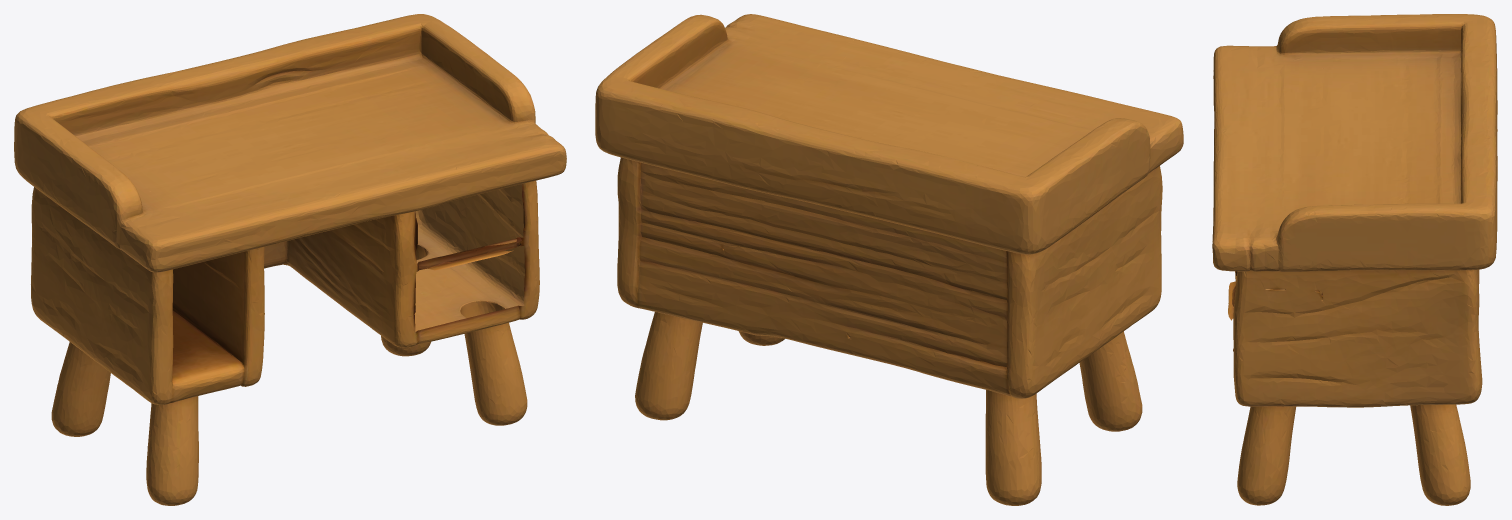
Rendered from body.glb.
The picture shows the model from 3 angles, left to right: view 1: azimuth 30°, elevation 25°; view 2: azimuth 150°, elevation 25°; view 3: azimuth 270°, elevation 25°; orthographic projection. The views are drawn at different scales.
Visible parts, largest first — view 1: source_surface_0; view 2: source_surface_0; view 3: source_surface_0.
Boxes of the visible parts, x1,y1,x2,y2 form: source_surface_0: [14, 14, 566, 505]; source_surface_0: [595, 14, 1183, 505]; source_surface_0: [1212, 14, 1497, 505].
Size of the model in its own units: 0.6 by 0.4315 by 0.3593.
1 material, 1 textured.
